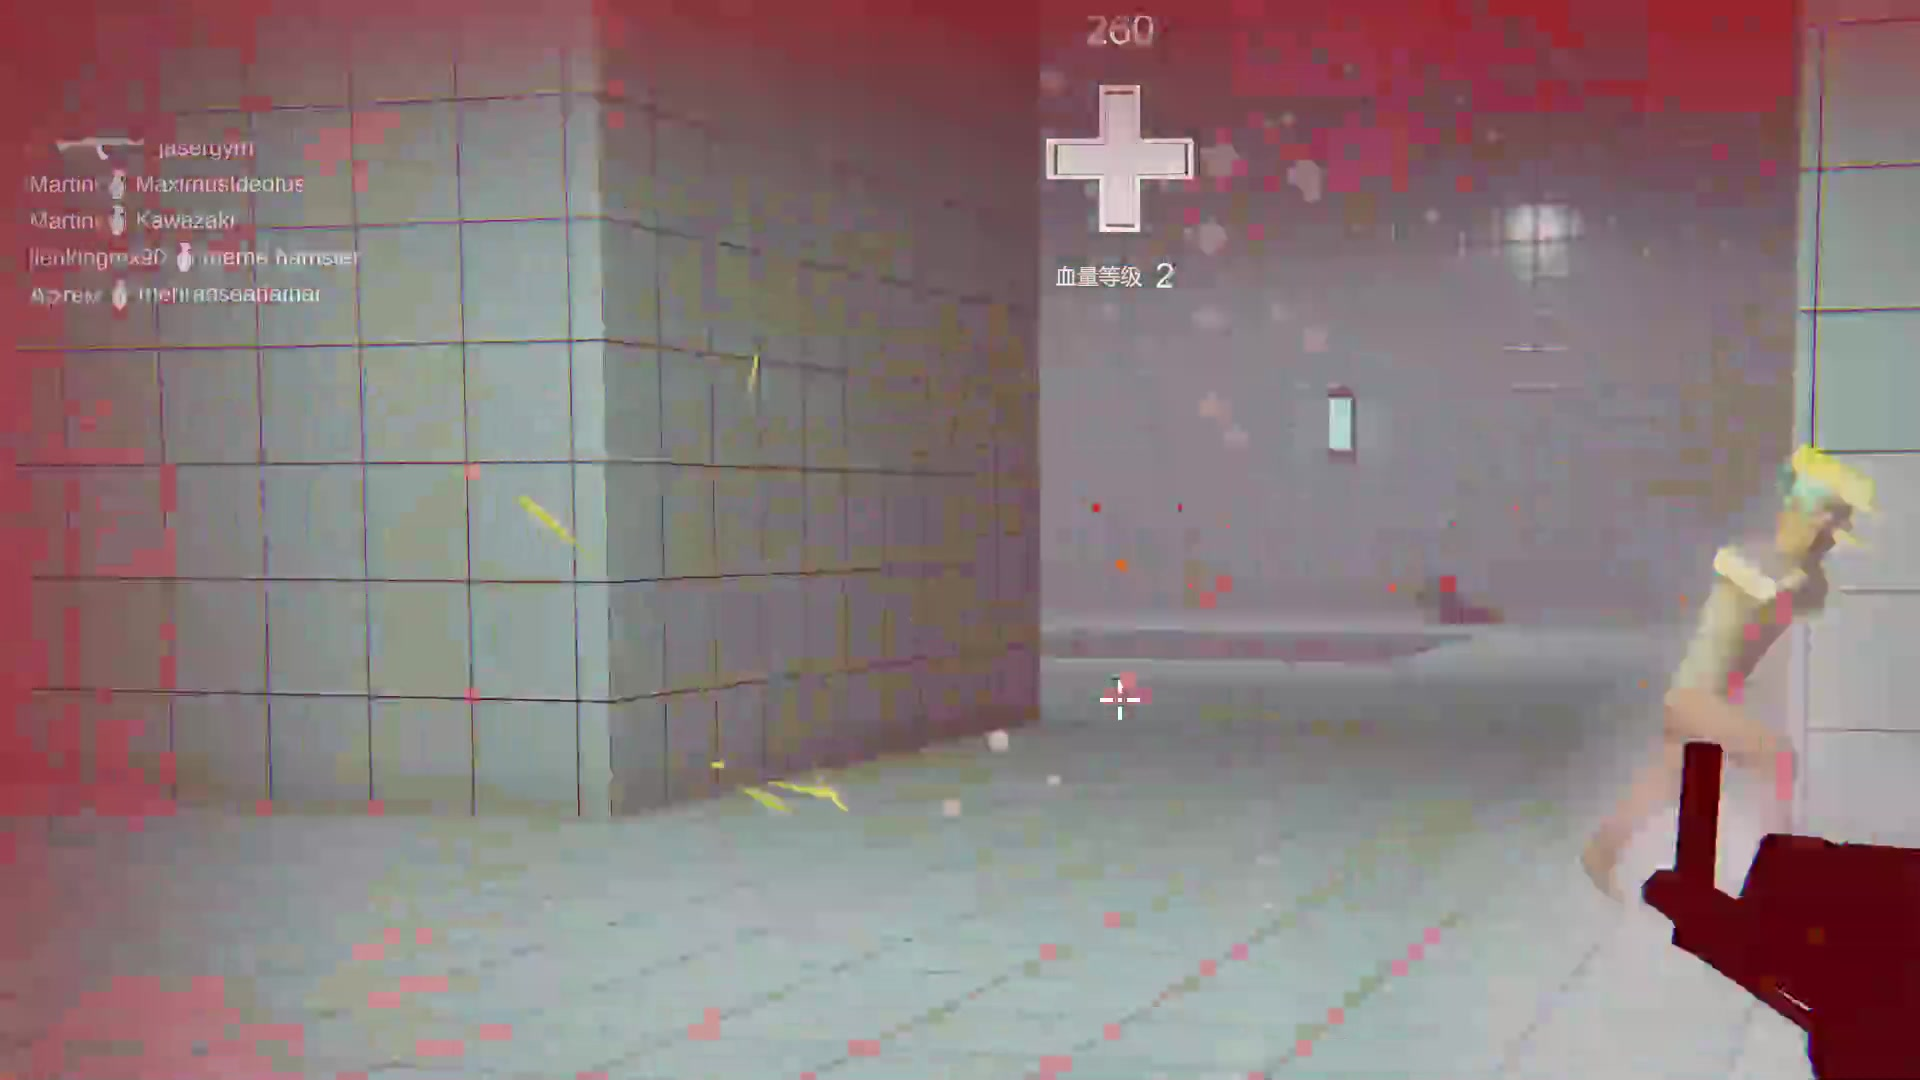human: (1684, 453, 1829, 887)
